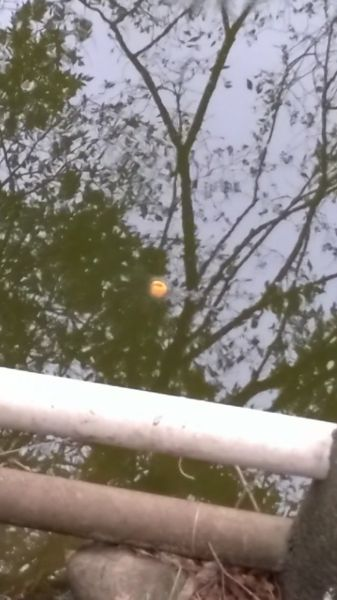eggs: (145, 275, 170, 300)
